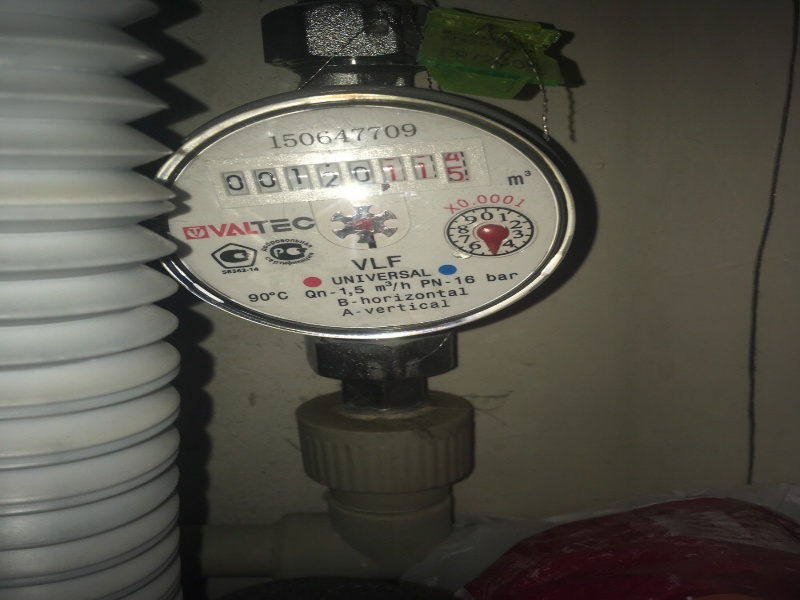meter: (212, 149, 486, 191)
